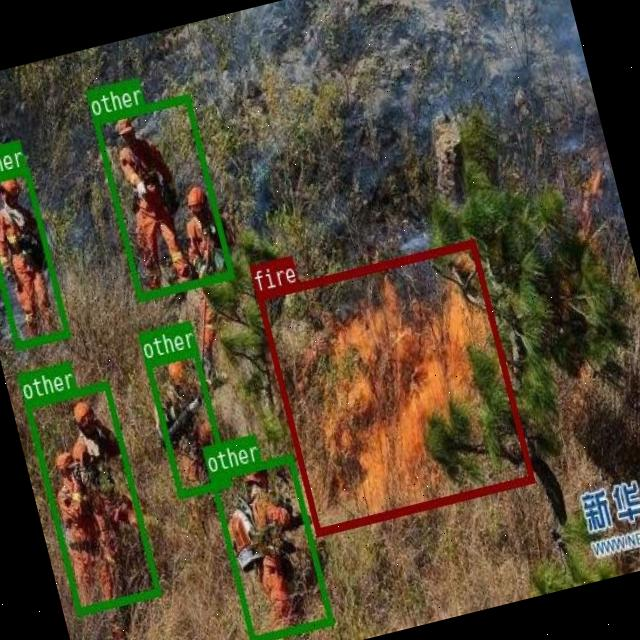fire: (256, 238, 534, 536)
